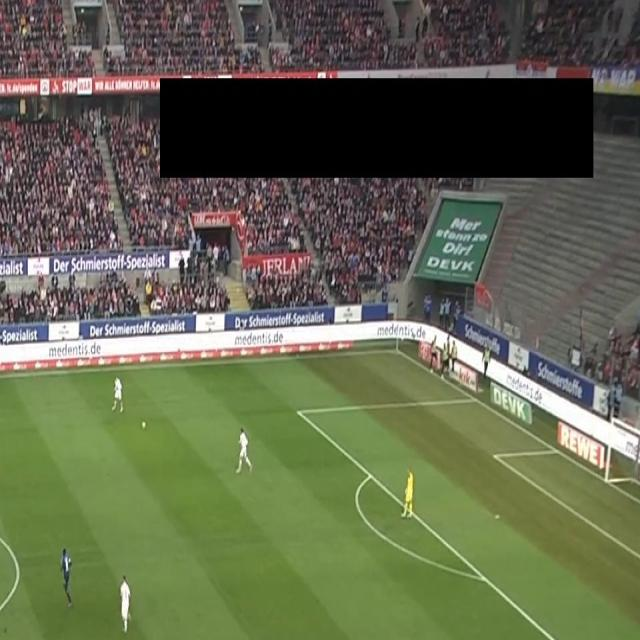ball: (140, 419, 147, 431)
